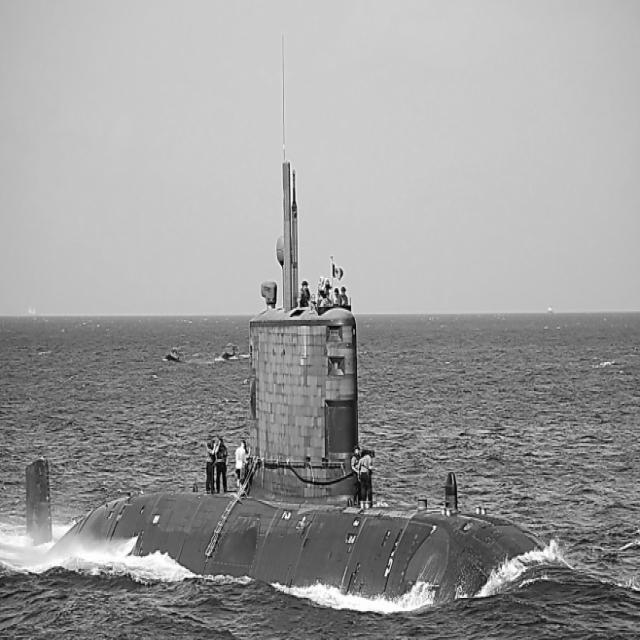submarine: (1, 165, 598, 595)
